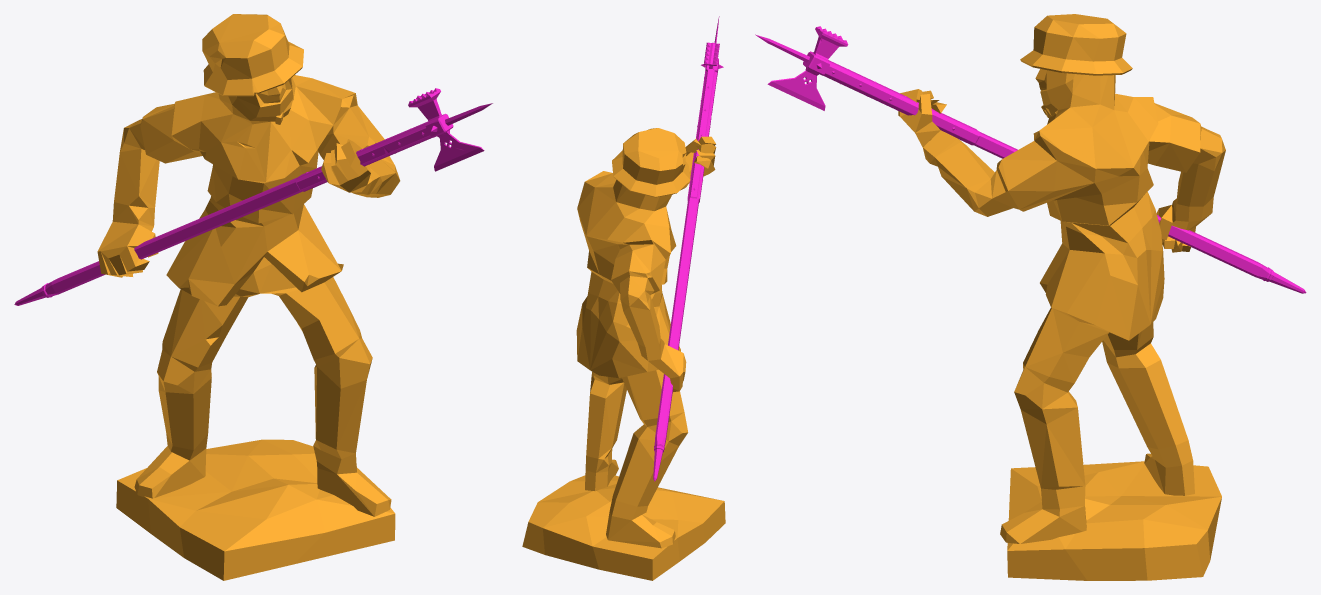
The model's file is SM_Statue_Guard_Fighting_Fantasy.fbx.
3 views of the same model, side by side, from view 1: azimuth 30°, elevation 25°; view 2: azimuth 150°, elevation 25°; view 3: azimuth 270°, elevation 25° (orthographic). The views are drawn at different scales.
Visible parts, largest first — view 1: SM_Statue_Guard_Fighting_Fantasy; view 2: SM_Statue_Guard_Fighting_Fantasy; view 3: SM_Statue_Guard_Fighting_Fantasy.
Boxes of the visible parts, <box> form: SM_Statue_Guard_Fighting_Fantasy: <box>14,14,492,580</box>; SM_Statue_Guard_Fighting_Fantasy: <box>522,16,725,580</box>; SM_Statue_Guard_Fighting_Fantasy: <box>755,14,1306,580</box>.
Bounding box in the file's own units: 0.8454 × 1.84 × 1.74.
